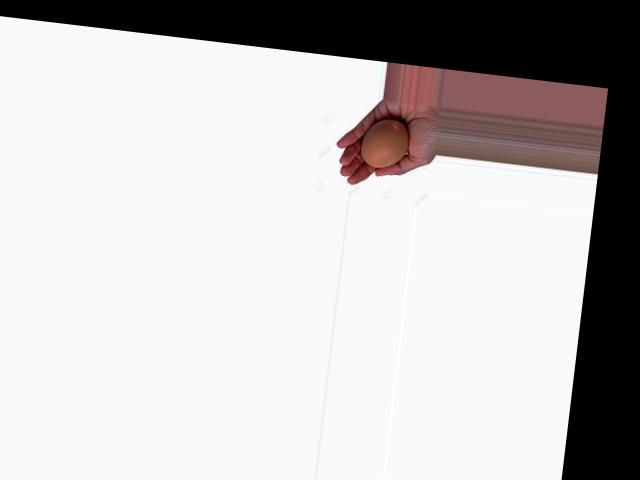egg: (358, 116, 411, 170)
